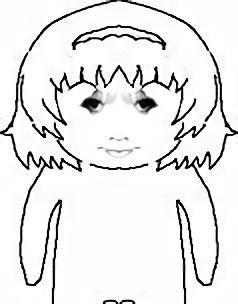dragon: (79, 90, 161, 157)
